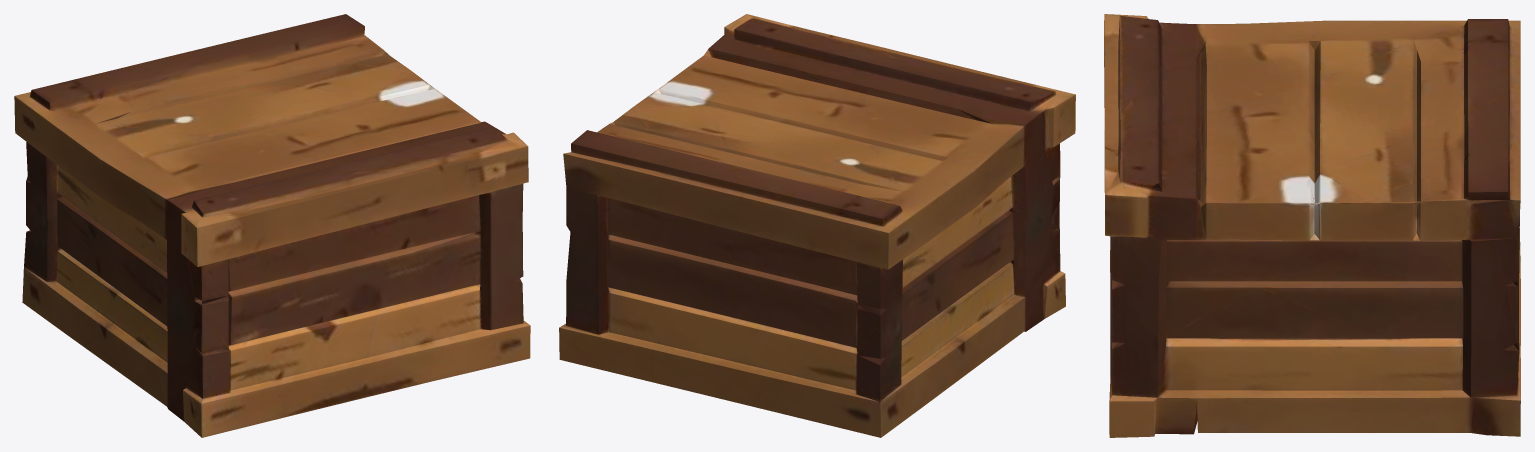
The model's file is crate.glb.
The picture shows the model from 3 angles, left to right: view 1: azimuth 30°, elevation 25°; view 2: azimuth 150°, elevation 25°; view 3: azimuth 270°, elevation 25°; orthographic projection. The views are drawn at different scales.
Parts seen in each view (by area): view 1: model; view 2: model; view 3: model.
Boxes of the visible parts, left/top/right/bottom form: model: left=14, top=14, right=530, bottom=437; model: left=559, top=14, right=1075, bottom=437; model: left=1104, top=14, right=1520, bottom=437.
Size of the model in its own units: 1.9 by 1.18 by 1.82.
1 material, 1 textured.
